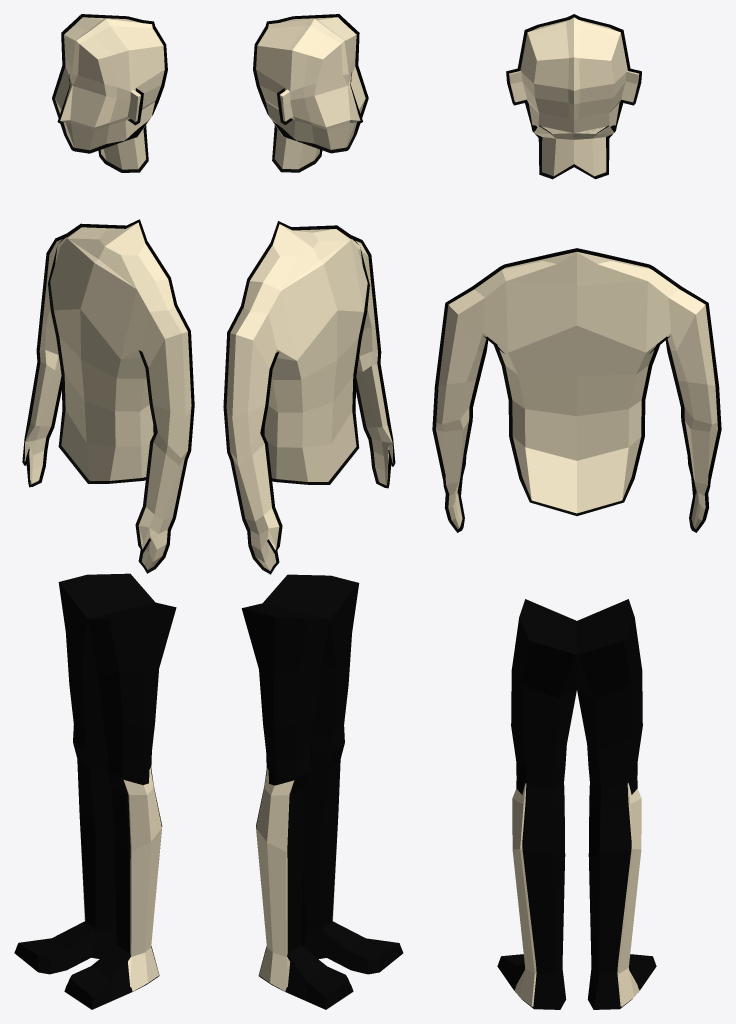
The model's file is dollAssemblyNotConnected.fbx.
The picture shows the model from 3 angles, left to right: view 1: azimuth 30°, elevation 25°; view 2: azimuth 150°, elevation 25°; view 3: azimuth 270°, elevation 25°; orthographic projection. The views are drawn at different scales.
Parts seen in each view (by area): view 1: body.002, body.004, body.003; view 2: body.002, body.004, body.003; view 3: body.002, body.004, body.003.
Boxes of the visible parts, x1,y1,x2,y2 form: body.002: (22,219,194,573); body.004: (14,573,176,1009); body.003: (52,14,167,172); body.002: (223,221,395,574); body.004: (241,574,403,1009); body.003: (253,14,368,172); body.002: (432,248,721,532); body.004: (497,599,656,1009); body.003: (506,14,641,179).
Size of the model in its own units: 102 by 870 by 233.
